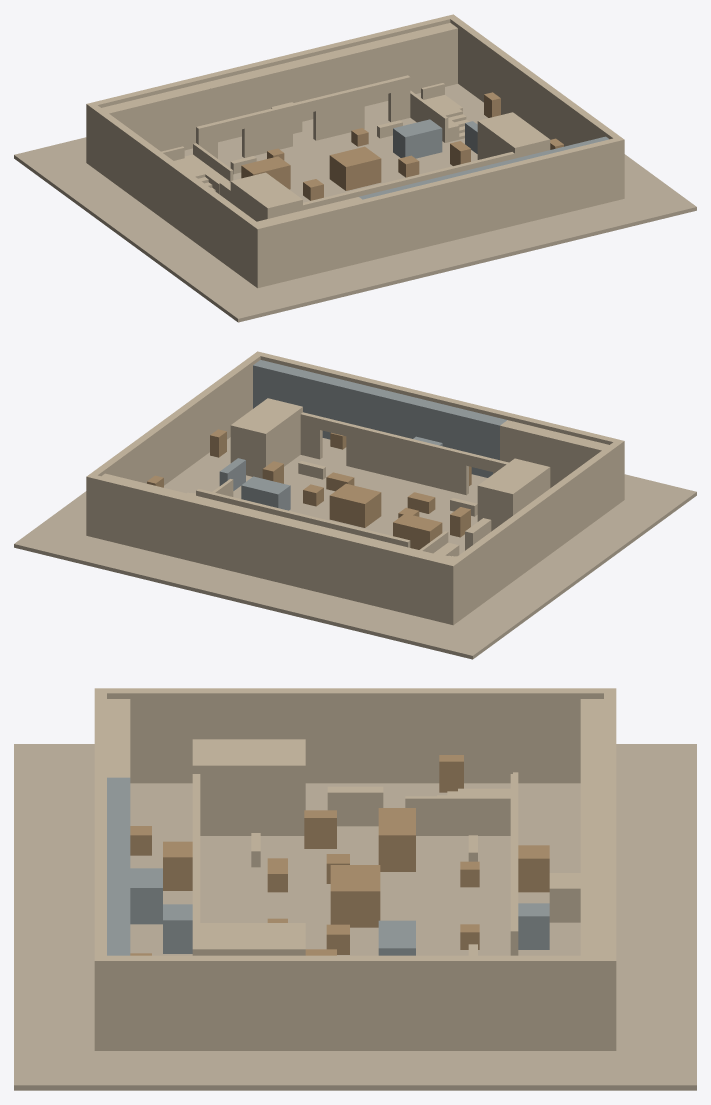
File: aim-arena.glb
3 renders of one model, top to bottom at view 1: azimuth 30°, elevation 25°; view 2: azimuth 150°, elevation 25°; view 3: azimuth 270°, elevation 25°, orthographic. The views are drawn at different scales.
Parts seen in each view (by area): view 1: perimeter-dev-sandstone, floor, centre-north-dev-sandstone, east-north-dev-sandstone, west-north-dev-sandstone, west-south-dev-sandstone, east-south-dev-sandstone, centre-mid-dev-wood, east-mid-dev-metal, south-wall-centre, west-mid-dev-wood, centre-south-dev-metal (+2 smaller); view 2: perimeter-dev-sandstone, floor, west-south-dev-sandstone, centre-south-dev-metal, east-south-dev-sandstone, south-wall-centre, south-building-2, centre-mid-dev-wood, east-mid-dev-metal, west-mid-dev-wood, centre-north-dev-sandstone, west-north-dev-sandstone (+3 smaller); view 3: floor, perimeter-dev-sandstone, west-south-dev-sandstone, west-north-dev-sandstone, centre-south-dev-metal, centre-mid-dev-wood, centre-north-dev-sandstone, east-south-dev-sandstone, west-mid-dev-wood, west-mid-dev-sandstone, centre-north-dev-wood, east-north-dev-sandstone (+7 smaller).
Boxes of the visible parts, x1=… form: perimeter-dev-sandstone: x1=86, y1=14, x2=624, y2=288; floor: x1=14, y1=84, x2=696, y2=322; centre-north-dev-sandstone: x1=204, y1=48, x2=364, y2=157; east-north-dev-sandstone: x1=345, y1=23, x2=462, y2=138; west-north-dev-sandstone: x1=102, y1=83, x2=256, y2=181; west-south-dev-sandstone: x1=230, y1=172, x2=361, y2=224; east-south-dev-sandstone: x1=467, y1=112, x2=550, y2=169; centre-mid-dev-wood: x1=303, y1=146, x2=419, y2=200; east-mid-dev-metal: x1=393, y1=119, x2=477, y2=158; south-wall-centre: x1=347, y1=163, x2=468, y2=198; west-mid-dev-wood: x1=241, y1=156, x2=290, y2=189; centre-south-dev-metal: x1=359, y1=162, x2=503, y2=199; perimeter-dev-sandstone: x1=86, y1=351, x2=624, y2=625; floor: x1=14, y1=437, x2=696, y2=659; west-south-dev-sandstone: x1=450, y1=420, x2=608, y2=531; centre-south-dev-metal: x1=358, y1=385, x2=506, y2=477; east-south-dev-sandstone: x1=230, y1=398, x2=348, y2=479; south-wall-centre: x1=346, y1=423, x2=468, y2=495; south-building-2: x1=253, y1=360, x2=365, y2=439; centre-mid-dev-wood: x1=303, y1=472, x2=435, y2=527; east-mid-dev-metal: x1=219, y1=458, x2=290, y2=510; west-mid-dev-wood: x1=393, y1=507, x2=470, y2=549; centre-north-dev-sandstone: x1=207, y1=499, x2=363, y2=536; west-north-dev-sandstone: x1=349, y1=529, x2=454, y2=561; floor: x1=14, y1=744, x2=696, y2=1090; perimeter-dev-sandstone: x1=94, y1=688, x2=616, y2=1050; west-south-dev-sandstone: x1=107, y1=699, x2=305, y2=867; west-north-dev-sandstone: x1=405, y1=699, x2=603, y2=861; centre-south-dev-metal: x1=107, y1=777, x2=192, y2=953; centre-mid-dev-wood: x1=267, y1=854, x2=380, y2=954; centre-north-dev-sandstone: x1=510, y1=777, x2=603, y2=922; east-south-dev-sandstone: x1=192, y1=897, x2=305, y2=955; west-mid-dev-wood: x1=304, y1=808, x2=415, y2=871; west-mid-dev-sandstone: x1=327, y1=786, x2=457, y2=835; centre-north-dev-wood: x1=460, y1=845, x2=549, y2=949; east-north-dev-sandstone: x1=468, y1=882, x2=603, y2=955.
Size of the model in its own units: 52 by 6.8 by 44.
